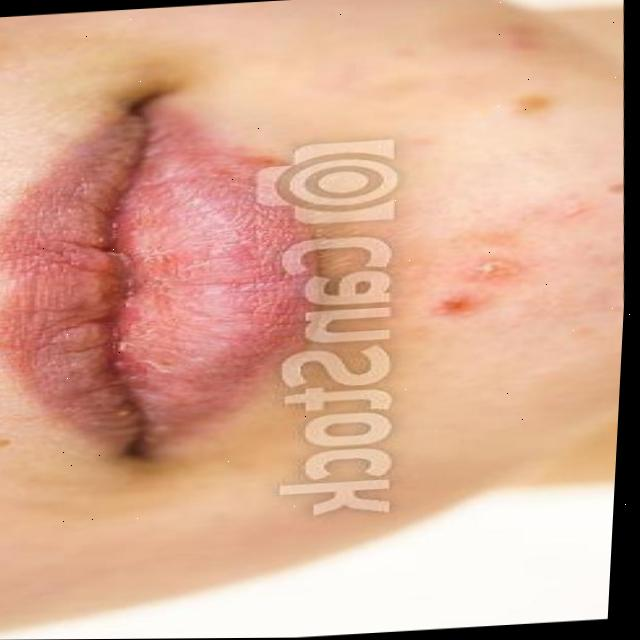Acne: (422, 73, 619, 381)
